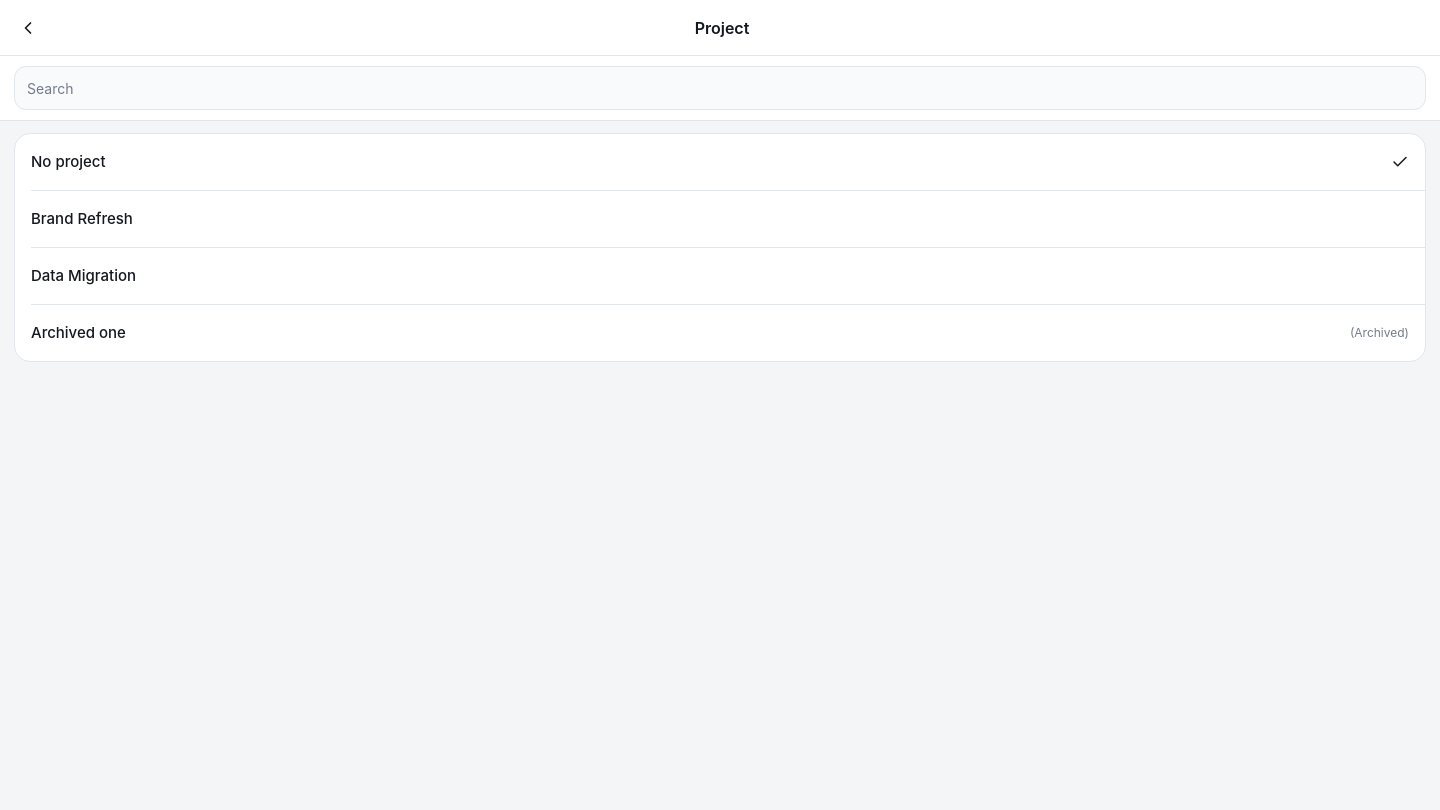
Test: MobilePickerScreen › filters by the search box when searchable
This screenshot has width=1440, height=810.
Type "migra" into the field.
click(720, 88); type("migra")  # box left=14, top=66, right=1426, bottom=110
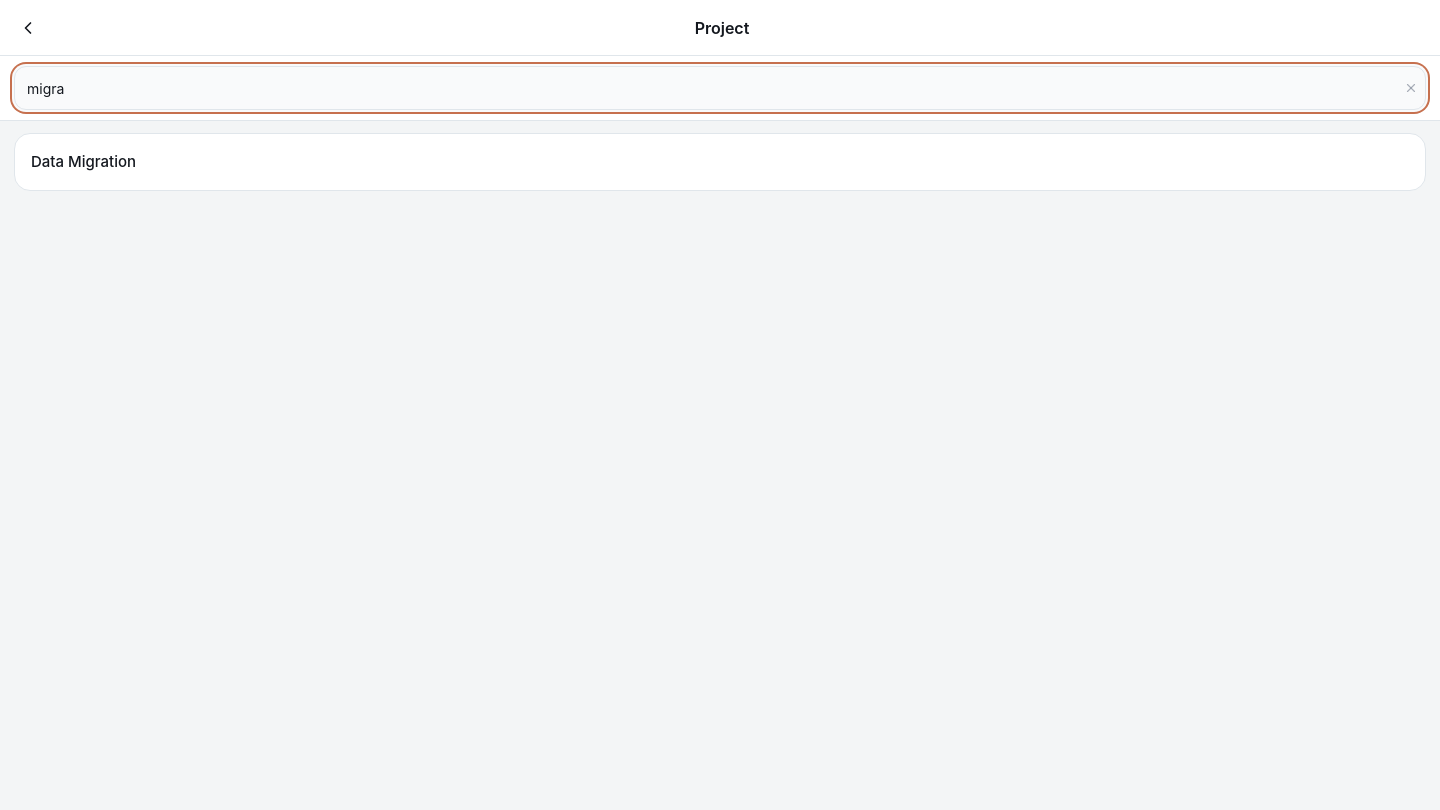
Check: the button "Data Migration" is shown, box left=15, top=134, right=1425, bottom=190
Check: the button "Brand Refresh" is gone
